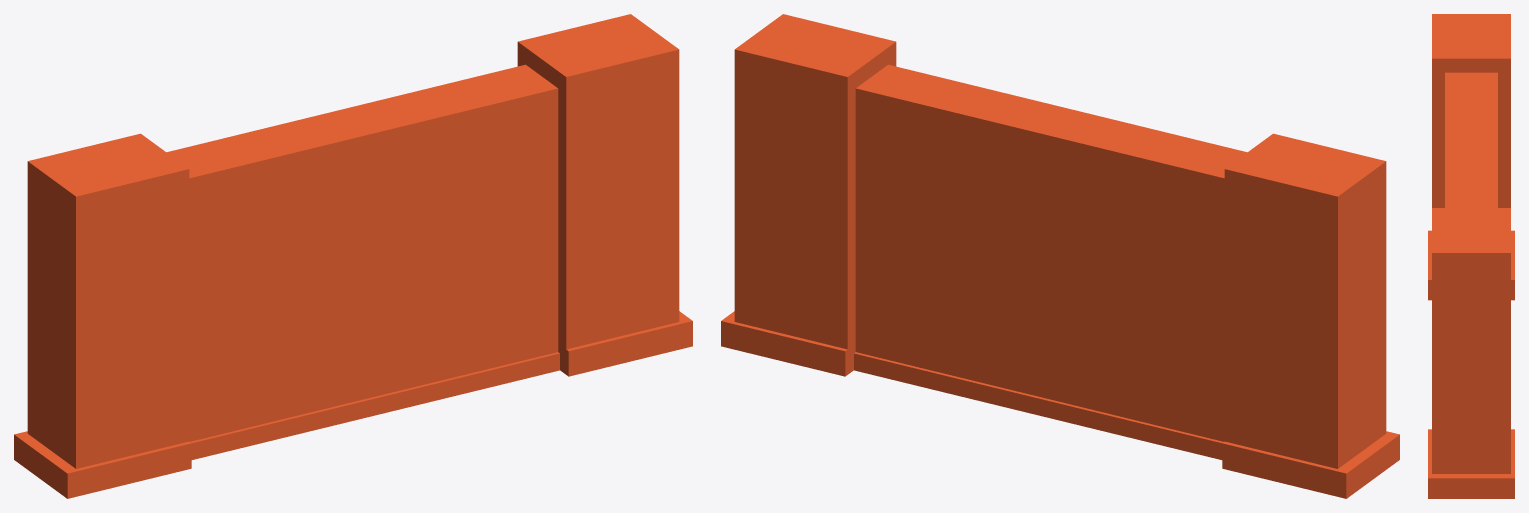
File: Wall_High.fbx
3 views of the same model, side by side, from view 1: azimuth 30°, elevation 25°; view 2: azimuth 150°, elevation 25°; view 3: azimuth 270°, elevation 25° (orthographic). The views are drawn at different scales.
Parts seen in each view (by area): view 1: Wall_High; view 2: Wall_High; view 3: Wall_High.
Boxes of the visible parts, x1=… form: Wall_High: x1=14, y1=14, x2=692, y2=498; Wall_High: x1=721, y1=14, x2=1399, y2=498; Wall_High: x1=1428, y1=14, x2=1514, y2=498.
Size of the model in its own units: 710 by 323 by 105.
